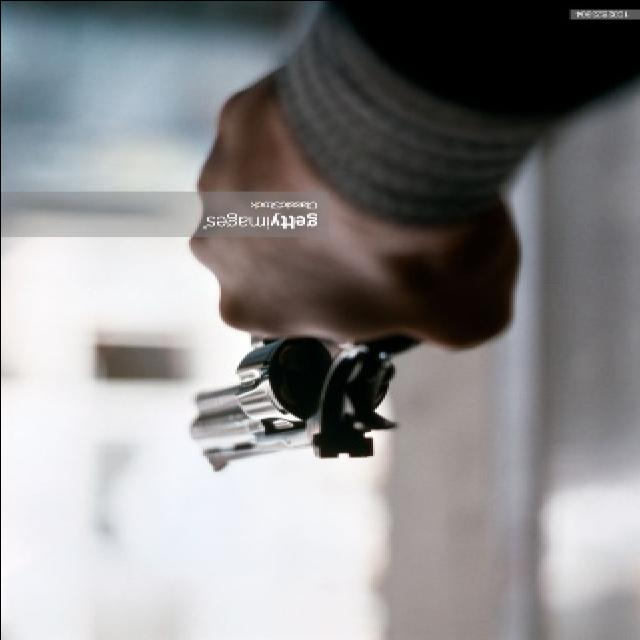handgun: (185, 334, 403, 475)
